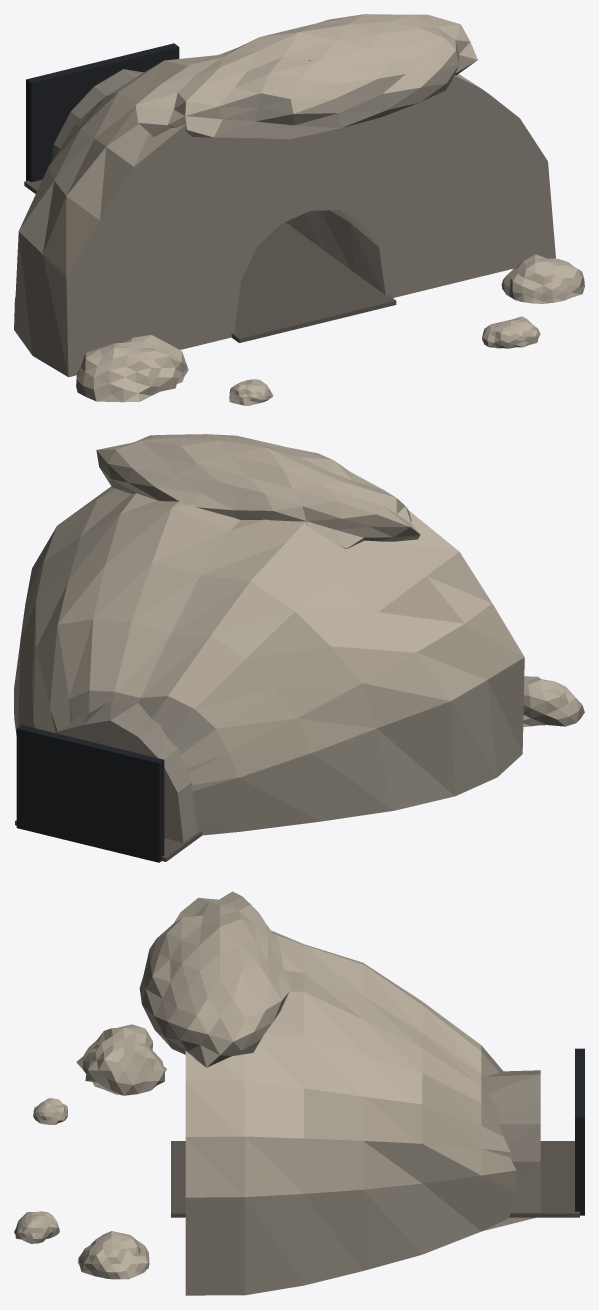
Rendered from TERRAIN_14.obj.
3 renders of one model, top to bottom at view 1: azimuth 30°, elevation 25°; view 2: azimuth 150°, elevation 25°; view 3: azimuth 270°, elevation 25°, orthographic. The views are drawn at different scales.
Visible parts, largest first — view 1: rock_mass, overhang, boulders, cave_floor, cave_interior; view 2: rock_mass, overhang, cave_interior, boulders; view 3: rock_mass, overhang, boulders, cave_floor, cave_interior.
Boxes of the visible parts, x1,y1,x2,y2 form: rock_mass: [14, 55, 555, 377]; overhang: [135, 14, 477, 139]; boulders: [76, 254, 584, 405]; cave_floor: [24, 180, 396, 342]; cave_interior: [26, 43, 179, 182]; rock_mass: [14, 449, 524, 842]; overhang: [96, 434, 420, 548]; cave_interior: [16, 725, 164, 862]; boulders: [523, 676, 584, 726]; rock_mass: [185, 930, 540, 1295]; overhang: [139, 891, 290, 1067]; boulders: [14, 1024, 166, 1279]; cave_floor: [171, 1141, 579, 1217]; cave_interior: [575, 1048, 584, 1215].
Bounding box in the file's own units: 22.77 × 11.54 × 23.16.
